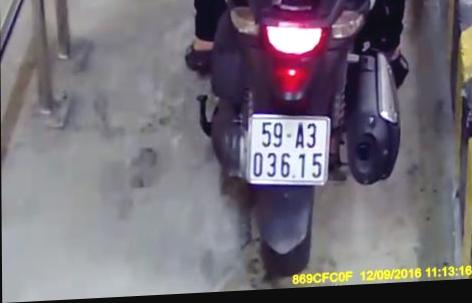License_Plate: (238, 102, 341, 200)
